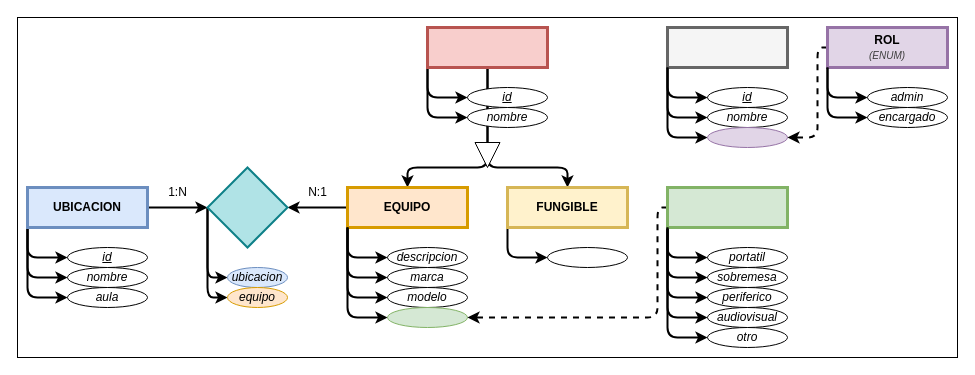
Image size: 975x375. Some labels were removed from this diagram. Here are the shapes that lost their labels. From the top down, the centre of each, then its label:
At point (487, 47): "INVENTARIO".
At point (727, 47): "USUARIO".
At point (747, 137): "rol".
At point (247, 207): "UBICADO".
At point (727, 207): "CATEGORIA (ENUM)".
At point (587, 257): "stock".
At point (427, 317): "categoria".
